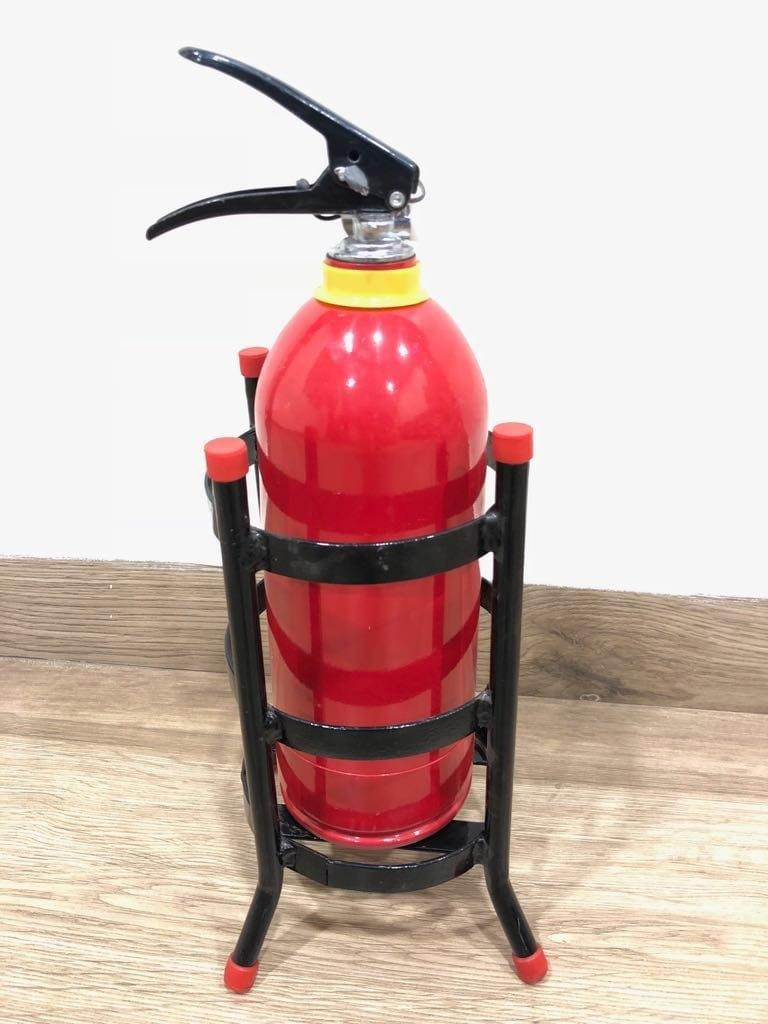floor-kept: (93, 3, 633, 1014)
